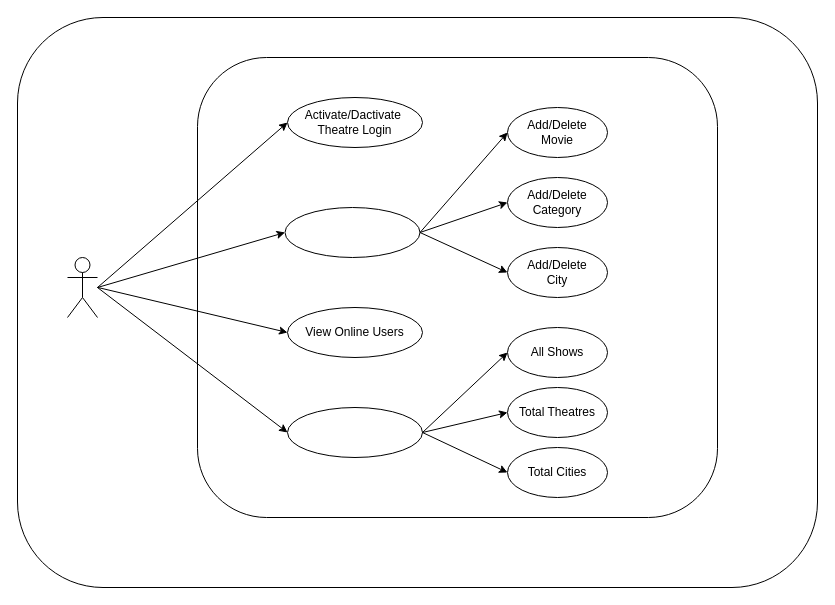
Image size: 835x605. Some labels were removed from this diagram. Here are the shapes that lost their labels. From the top down, the box of each, then its label:
(284, 206, 420, 258): Master Data
(66, 256, 98, 318): Super Admin
(286, 406, 422, 458): View Summary
